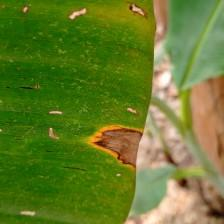cordana: (0, 0, 156, 224)
